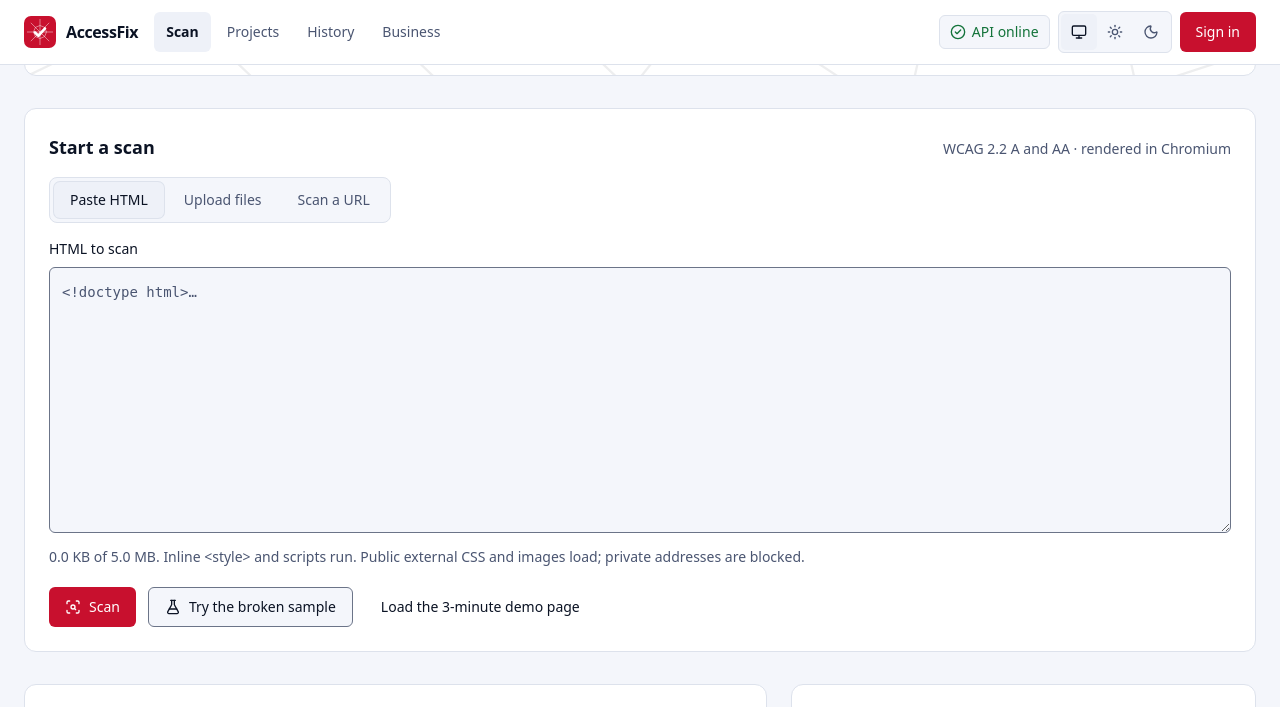
scan flow › keeps manual review and advisory in their own sections, with the heading outline
The image size is (1280, 707).
(page scrolled)
expect the text "API online" is shown: met, box [950,22,1038,42]
Step 1. Type "<p>hi</p>" into the text box labelled "HTML to scan" → (640,400), box [49,267,1231,533]
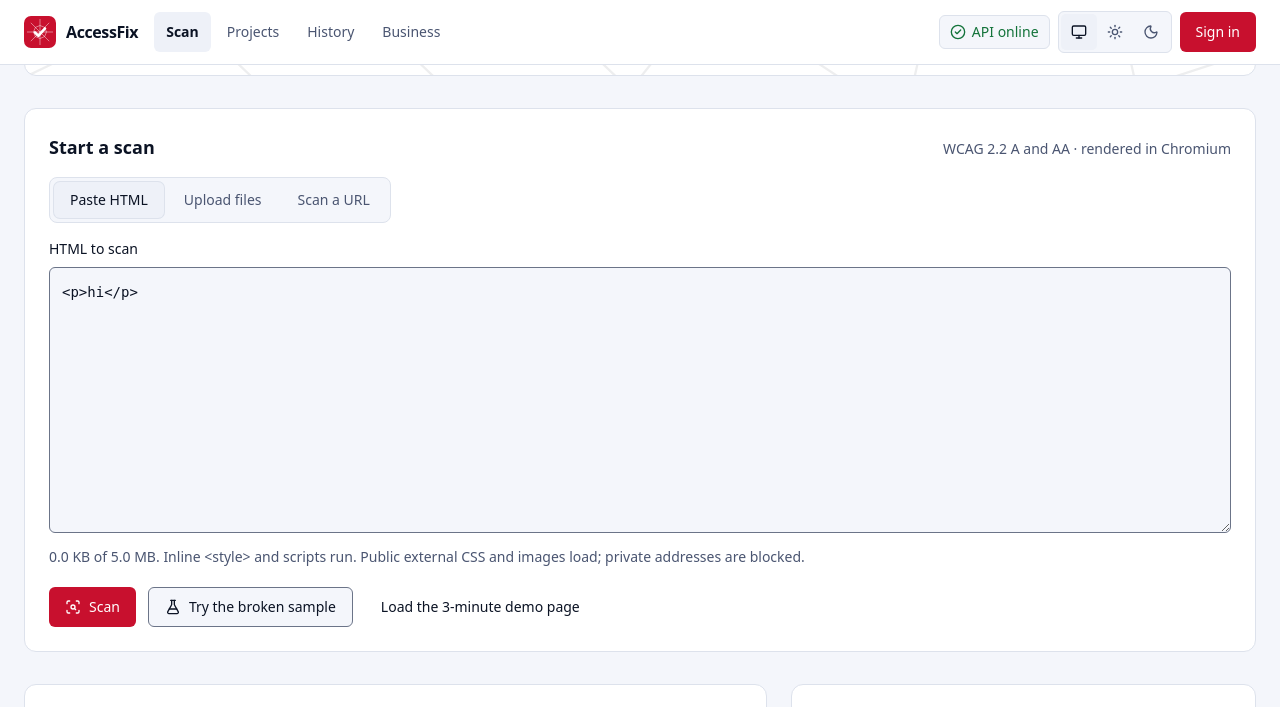
Step 2. Click the button "Scan" → (92,607), box [49,587,136,627]
(page scrolled)
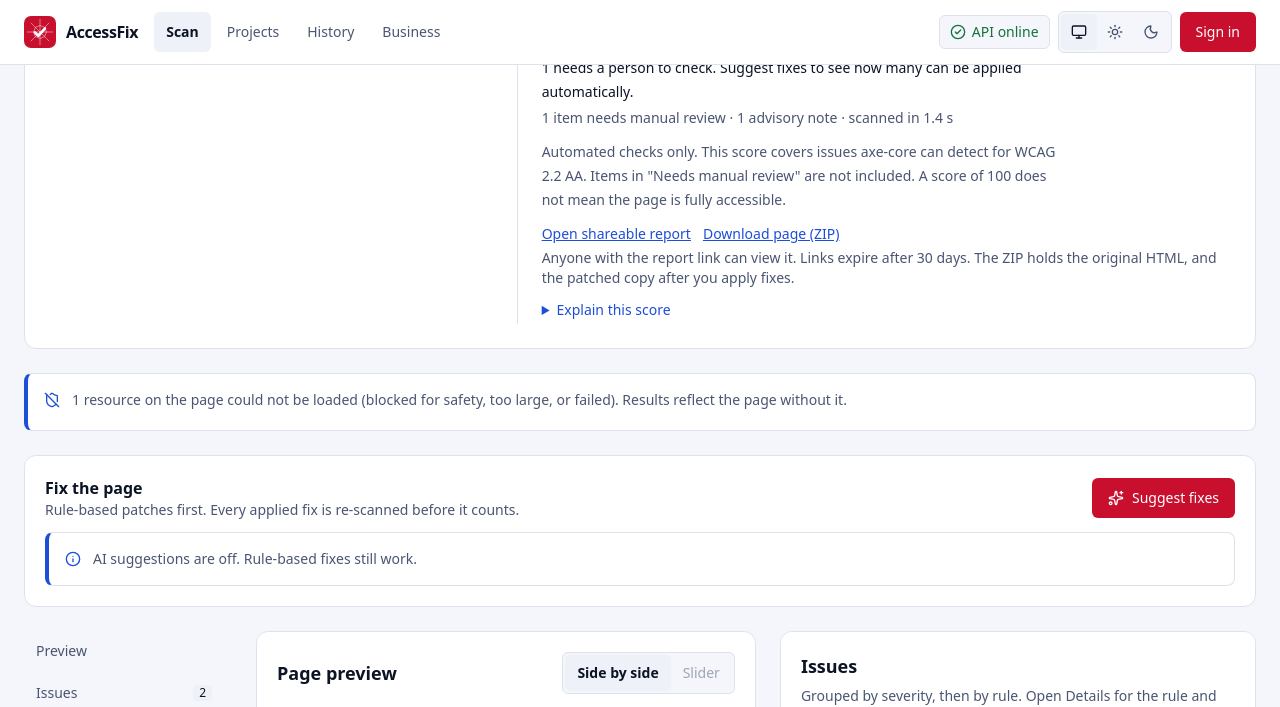
expect the text "1 resource on the page could not be loaded" is shown: met, box [72,390,847,409]
